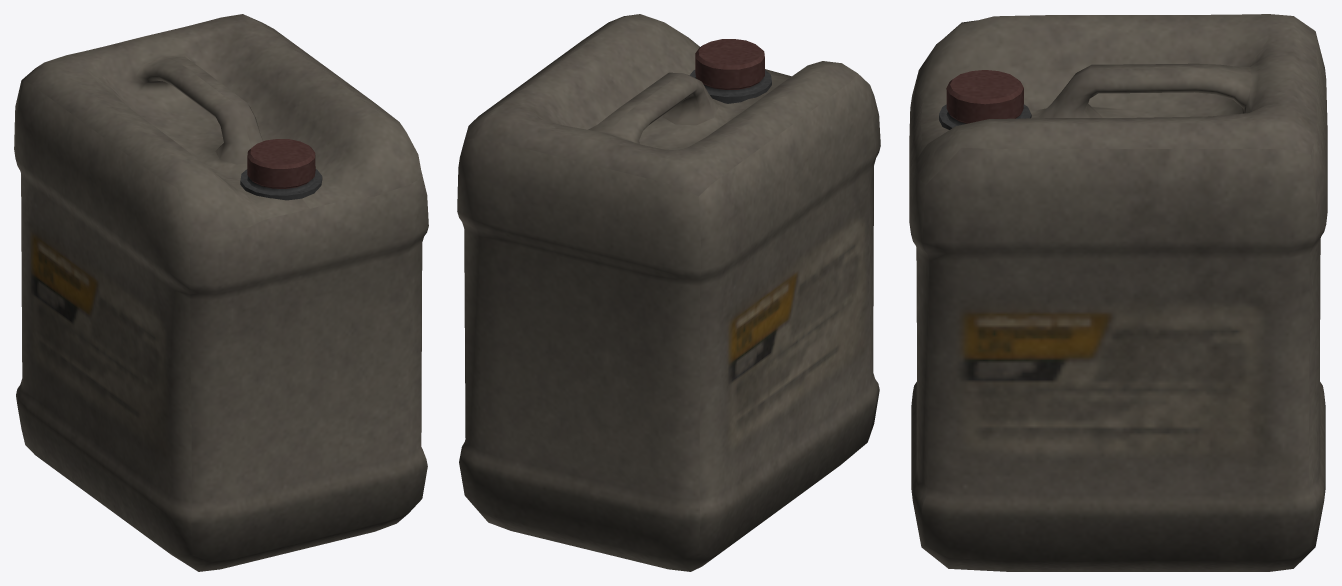
Rendered from jerrycan_1.fbx.
3 renders of one model, left to right at view 1: azimuth 30°, elevation 25°; view 2: azimuth 150°, elevation 25°; view 3: azimuth 270°, elevation 25°, orthographic. The views are drawn at different scales.
Visible parts, largest first — view 1: jerrycan_1; view 2: jerrycan_1; view 3: jerrycan_1.
Part boxes in pixels (x1,y1,x2,y2): jerrycan_1: (14,14,428,571); jerrycan_1: (457,14,880,571); jerrycan_1: (909,14,1327,571).
Bounding box in the file's own units: 33.64 × 50.3 × 42.05.
